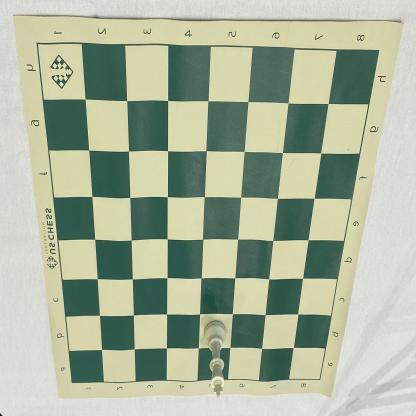white-king: (204, 320, 227, 398)
